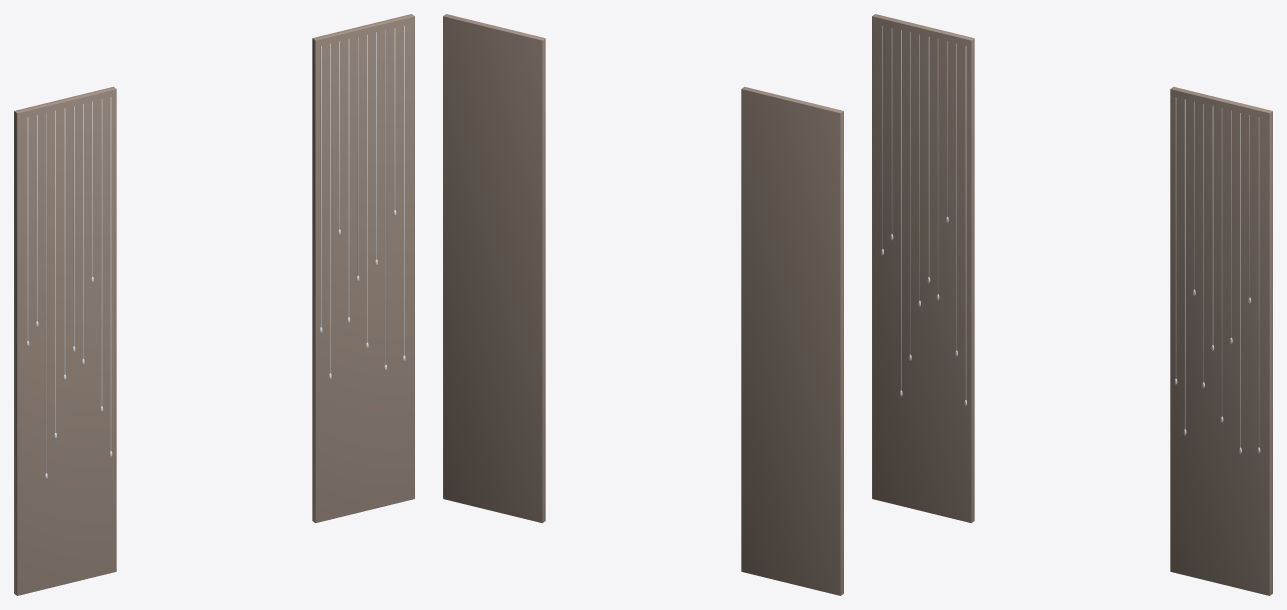
Rendered from landing_door_TM027.glb.
3 views of the same model, side by side, from view 1: azimuth 30°, elevation 25°; view 2: azimuth 150°, elevation 25°; view 3: azimuth 330°, elevation 25° (orthographic).
Parts seen in each view (by area): view 1: Landing_Door_L, Landing_Door_R; view 2: Landing_Door_L, Landing_Door_R; view 3: Landing_Door_L, Landing_Door_R.
Part boxes in pixels (x1=…): Landing_Door_L: x1=14, y1=86, x2=116, y2=595; Landing_Door_R: x1=312, y1=14, x2=414, y2=523; Landing_Door_L: x1=741, y1=86, x2=843, y2=595; Landing_Door_R: x1=443, y1=14, x2=545, y2=523; Landing_Door_L: x1=872, y1=14, x2=974, y2=523; Landing_Door_R: x1=1170, y1=86, x2=1272, y2=595.
Size of the model in its own units: 1.81 by 2.1 by 0.029.
